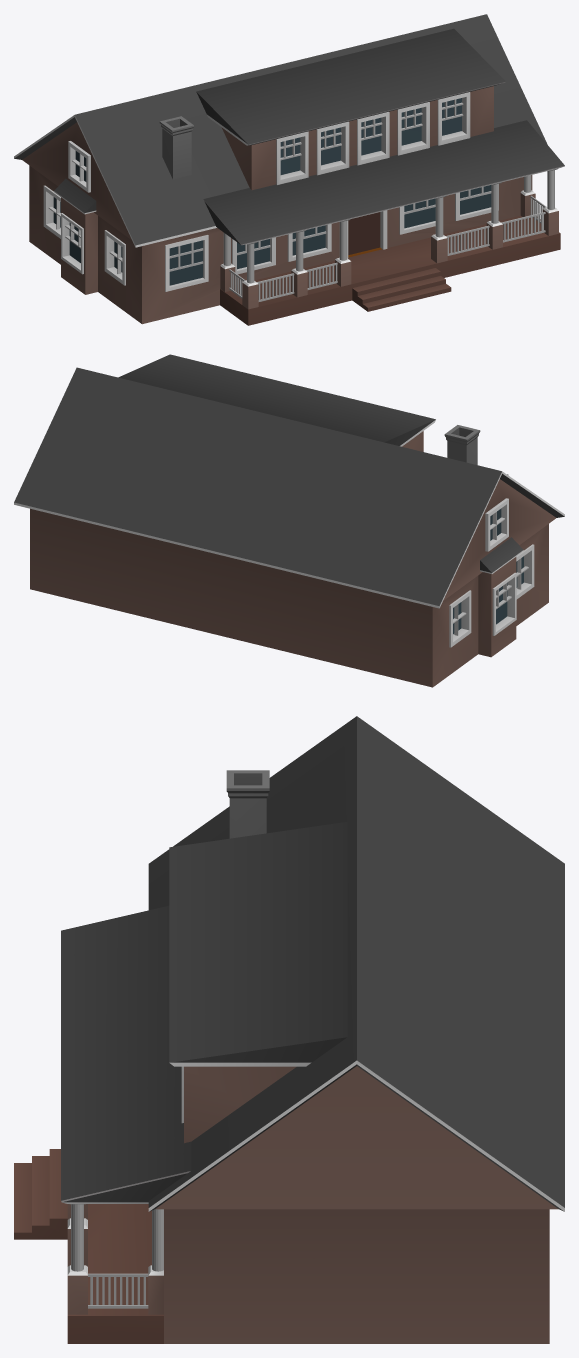
Rendered from house_005.glb.
3 views of the same model, one above another, from view 1: azimuth 30°, elevation 25°; view 2: azimuth 150°, elevation 25°; view 3: azimuth 270°, elevation 25° (orthographic). The views are drawn at different scales.
Parts seen in each view (by area): view 1: house_005; view 2: house_005; view 3: house_005.
Boxes of the visible parts, left/top/right/bottom form: house_005: left=14, top=14, right=564, bottom=325; house_005: left=14, top=354, right=564, bottom=687; house_005: left=14, top=716, right=564, bottom=1343.
Bounding box in the file's own units: 19.74 × 7.72 × 13.18.
1 material, 1 textured.
